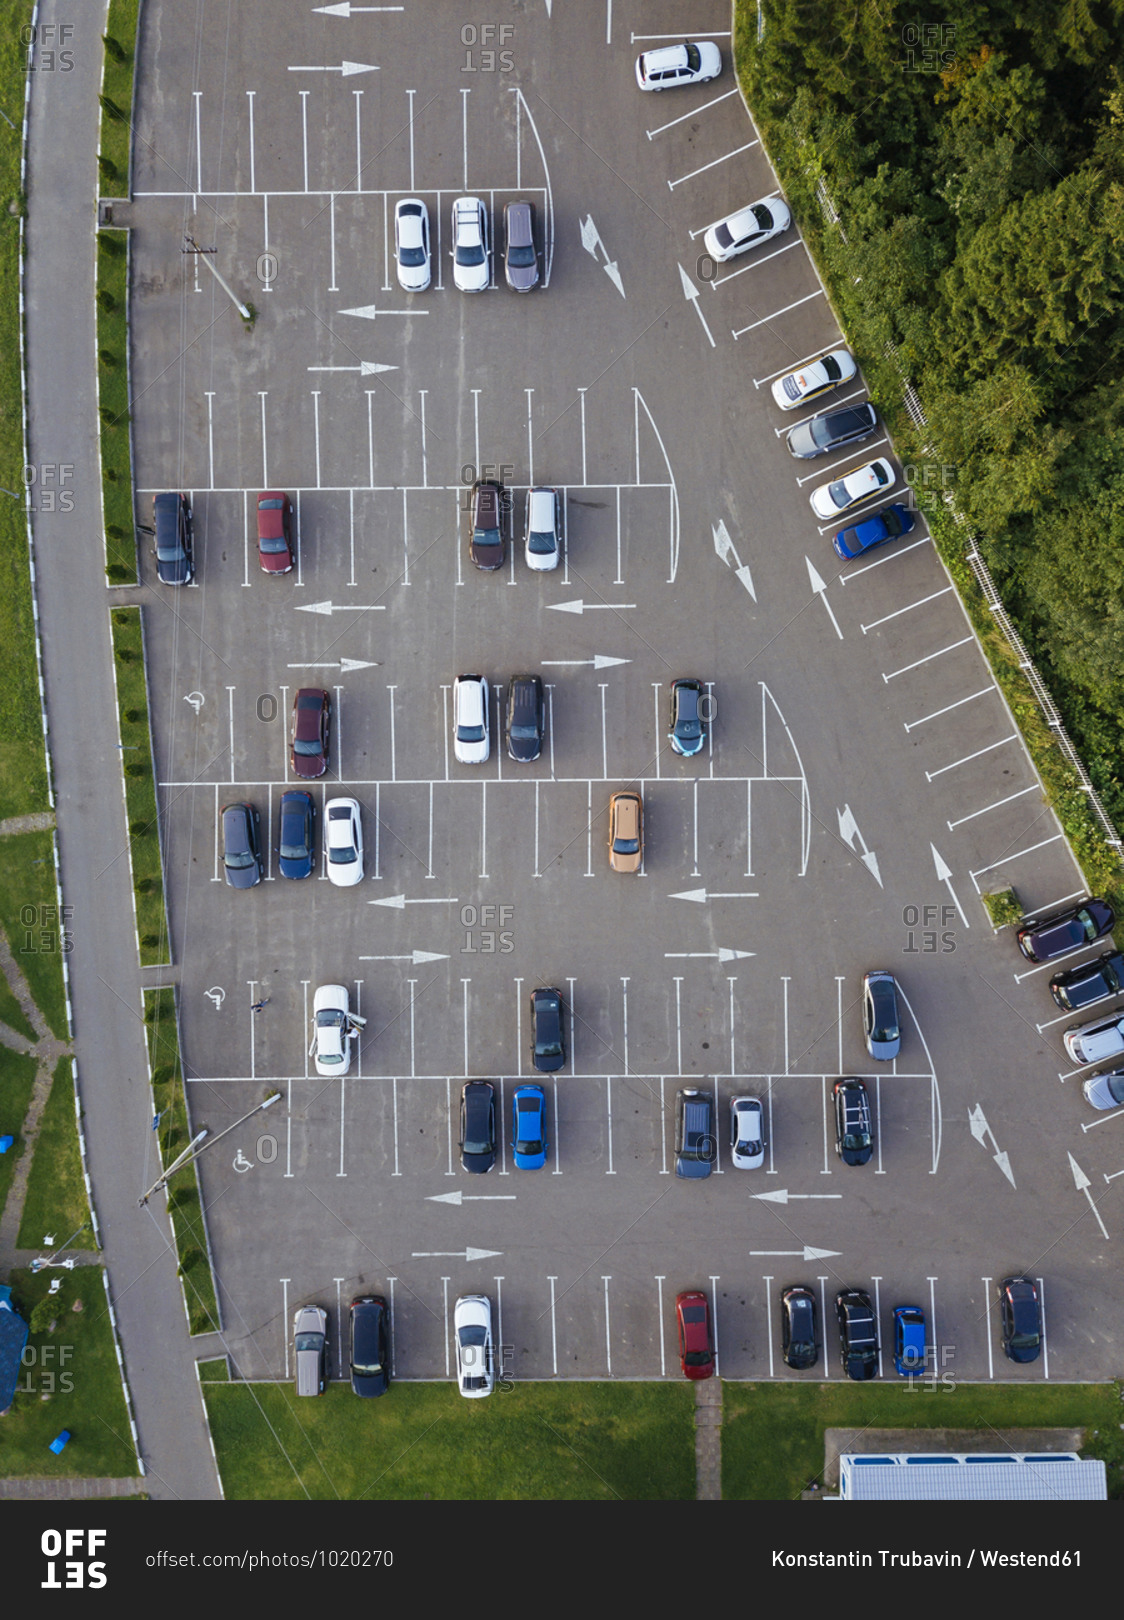car: (702, 186, 792, 271), (784, 394, 893, 462), (300, 985, 372, 1076), (767, 348, 861, 416), (810, 452, 896, 523), (145, 487, 202, 591), (449, 1290, 502, 1400), (832, 499, 918, 564), (316, 795, 372, 892), (630, 34, 719, 94), (991, 1269, 1045, 1365), (350, 1293, 396, 1403), (446, 667, 496, 767), (284, 1302, 335, 1401), (465, 476, 516, 572), (254, 486, 303, 583), (271, 787, 319, 885), (499, 670, 547, 768), (449, 193, 494, 299), (668, 1285, 717, 1382), (218, 799, 267, 894), (833, 1285, 883, 1380), (283, 684, 334, 777), (861, 968, 907, 1064), (457, 1082, 502, 1181), (673, 1085, 719, 1183), (830, 1075, 877, 1169), (499, 193, 542, 295), (391, 193, 435, 292), (508, 1080, 550, 1179), (522, 487, 568, 579), (604, 788, 651, 876), (781, 1283, 824, 1376), (529, 986, 569, 1076), (667, 675, 708, 761), (726, 1092, 769, 1172)
